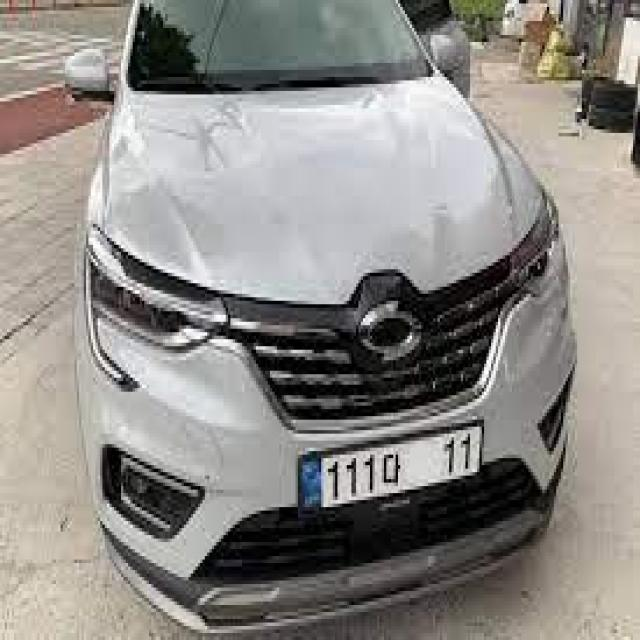car: (57, 0, 572, 640)
illegal_plate: (294, 420, 487, 514)
